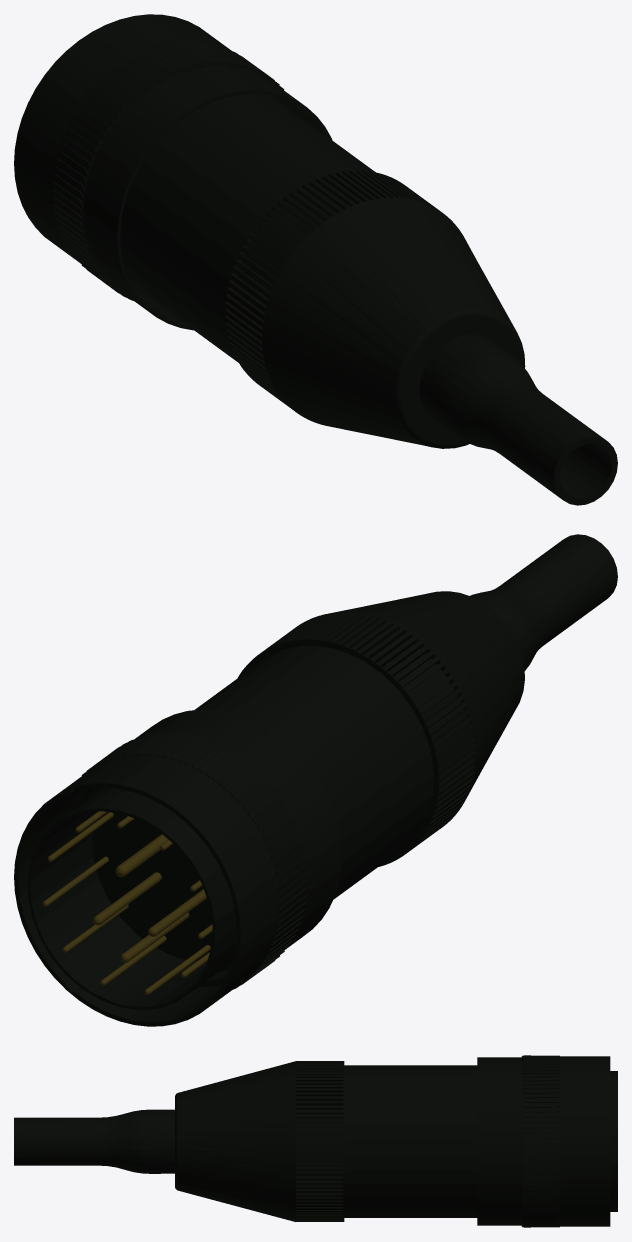
The model's file is USB Converter Port.fbx.
3 views of the same model, one above another, from view 1: azimuth 30°, elevation 25°; view 2: azimuth 150°, elevation 25°; view 3: azimuth 270°, elevation 25° (orthographic). The views are drawn at different scales.
Visible parts, largest first — view 1: Shape_IndexedFaceSet.004, Shape_IndexedFaceSet.016; view 2: Shape_IndexedFaceSet.004, Shape_IndexedFaceSet.016, Shape_IndexedFaceSet.014, Shape_IndexedFaceSet.002, Shape_IndexedFaceSet.015; view 3: Shape_IndexedFaceSet.004, Shape_IndexedFaceSet.016.
Boxes of the visible parts, x1,y1,x2,y2 form: Shape_IndexedFaceSet.004: [120, 93, 617, 505]; Shape_IndexedFaceSet.016: [14, 14, 332, 330]; Shape_IndexedFaceSet.004: [28, 534, 617, 1009]; Shape_IndexedFaceSet.016: [14, 709, 341, 1026]; Shape_IndexedFaceSet.014: [93, 872, 161, 925]; Shape_IndexedFaceSet.002: [115, 834, 168, 877]; Shape_IndexedFaceSet.015: [148, 889, 206, 936]; Shape_IndexedFaceSet.004: [14, 1061, 617, 1221]; Shape_IndexedFaceSet.016: [477, 1055, 610, 1227].
Bounding box in the file's own units: 2.14 × 2.14 × 7.5.
